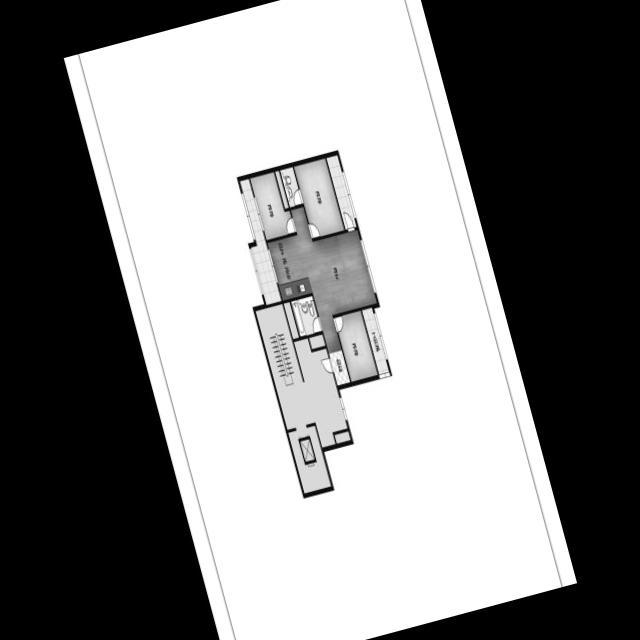background: (63, 0, 577, 640)
space_balconi: (239, 177, 281, 304), (326, 154, 356, 229), (361, 306, 389, 374)
space_bedroom: (293, 157, 344, 238), (249, 171, 295, 239), (334, 309, 377, 381)
space_elevator: (288, 424, 331, 493)
space_elevator_hall: (293, 337, 347, 447)
space_front: (328, 349, 350, 385)
space_kitchen: (267, 234, 312, 300)
space_living_room: (290, 206, 377, 352)
space_other: (283, 301, 299, 338), (274, 170, 288, 208), (308, 333, 325, 348), (334, 430, 350, 443)
space_staircase: (255, 303, 314, 429)
space_toilet: (290, 295, 321, 336), (279, 166, 302, 207)
